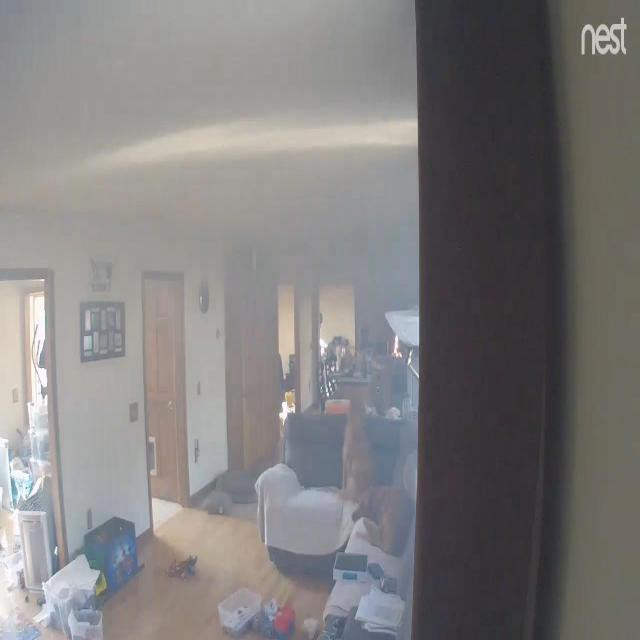fire: (393, 332, 402, 358)
